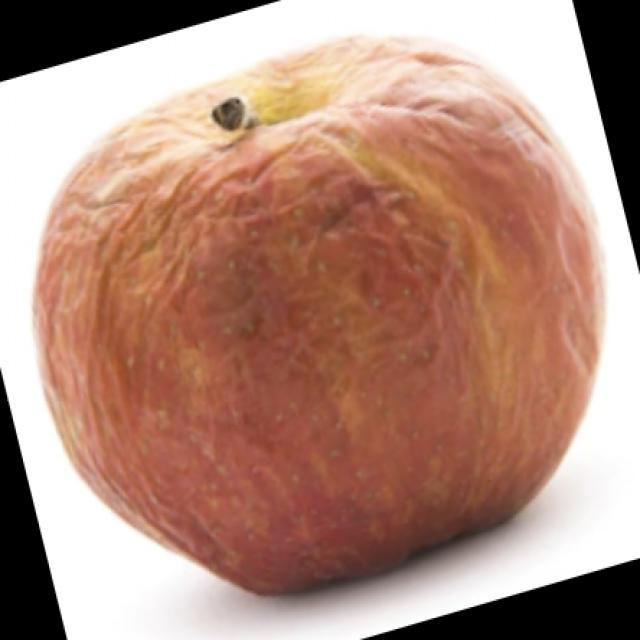Rotten: (46, 45, 606, 573)
